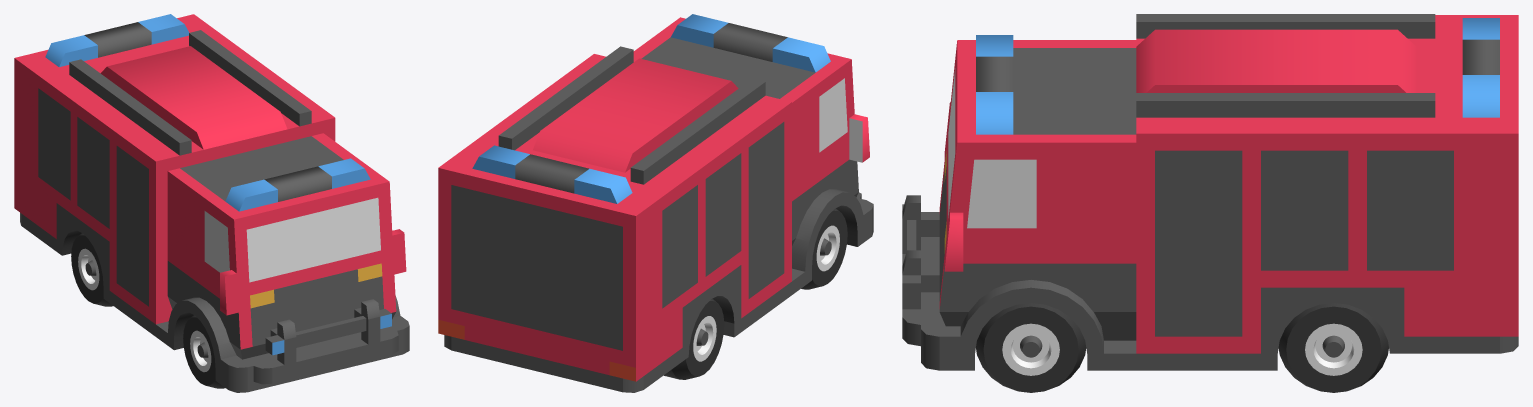
The model's file is firetruck.fbx.
3 renders of one model, left to right at view 1: azimuth 30°, elevation 25°; view 2: azimuth 150°, elevation 25°; view 3: azimuth 270°, elevation 25°, orthographic. The views are drawn at different scales.
Visible parts, largest first — view 1: body, grill, wheel_backRight, wheel_frontRight; view 2: body, wheel_backRight, wheel_frontRight; view 3: body, wheel_backLeft, wheel_frontLeft, grill.
Part boxes in pixels (x1,y1,x2,y2): body: [14, 14, 409, 392]; grill: [253, 299, 398, 384]; wheel_backRight: [71, 233, 112, 306]; wheel_frontRight: [183, 315, 224, 388]; body: [438, 14, 873, 392]; wheel_backRight: [664, 298, 724, 379]; wheel_frontRight: [801, 208, 847, 289]; body: [921, 14, 1518, 370]; wheel_backLeft: [1278, 303, 1388, 392]; wheel_frontLeft: [976, 303, 1086, 392]; grill: [902, 195, 939, 346].
Size of the model in its own units: 15 by 17 by 33.
